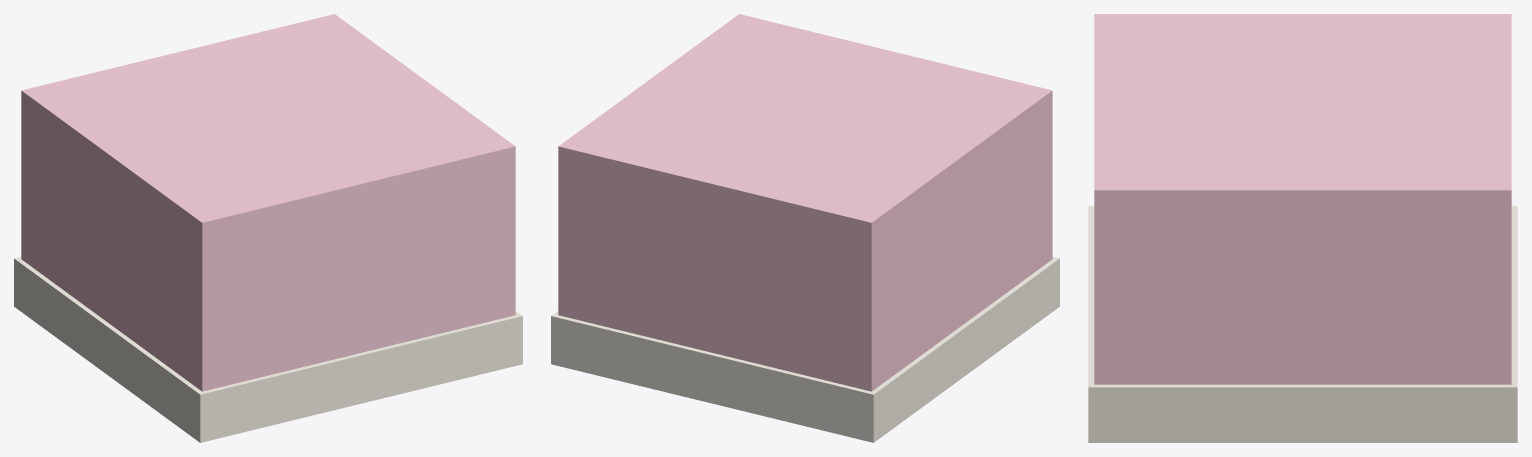
The model's file is hanbok_manga_inf.glb.
The picture shows the model from 3 angles, left to right: view 1: azimuth 30°, elevation 25°; view 2: azimuth 150°, elevation 25°; view 3: azimuth 270°, elevation 25°; orthographic projection. The views are drawn at different scales.
Visible parts, largest first — view 1: hanbok_manga_inf; view 2: hanbok_manga_inf; view 3: hanbok_manga_inf.
Boxes of the visible parts, x1,y1,x2,y2 form: hanbok_manga_inf: (14,14,522,442); hanbok_manga_inf: (551,14,1059,442); hanbok_manga_inf: (1088,14,1517,442).
Size of the model in its own units: 0.35 by 0.225 by 0.35.
